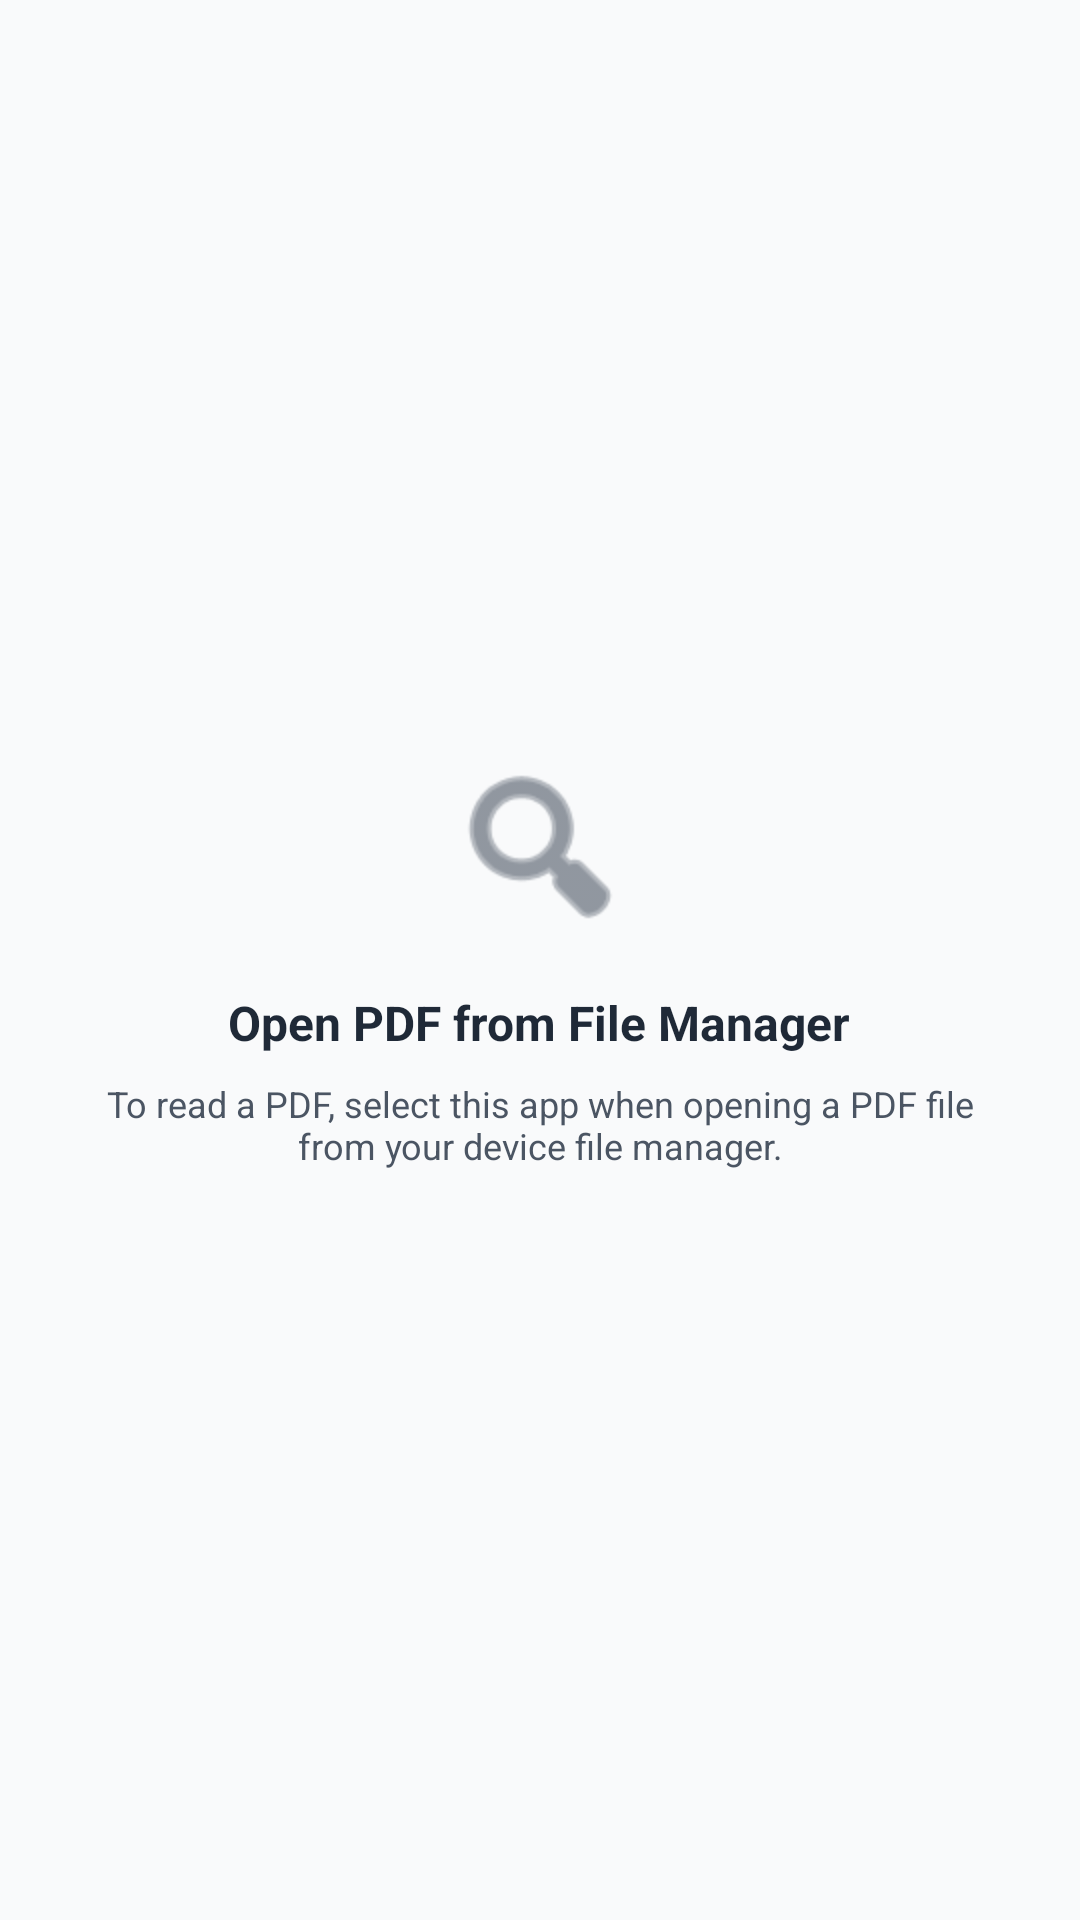

Icons on this 1080px x 1920px Android screen, each with its box as Rect(x1, y1, x2, y2):
search: Rect(469, 776, 611, 918)
